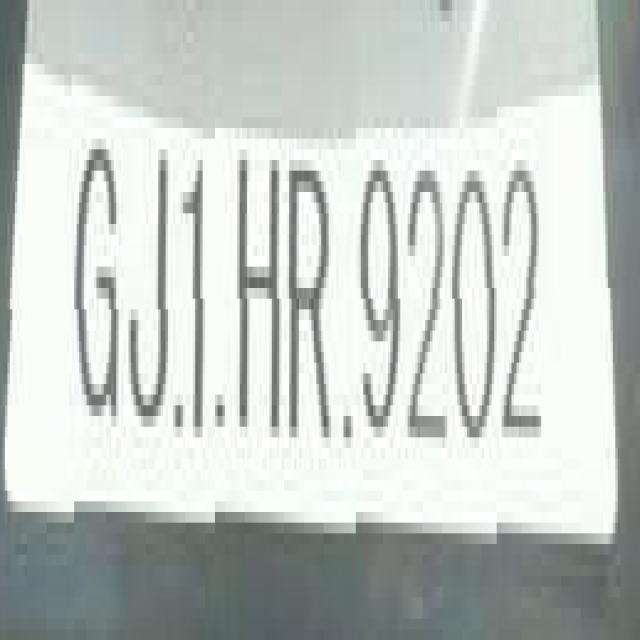license_plate: (0, 53, 610, 607)
